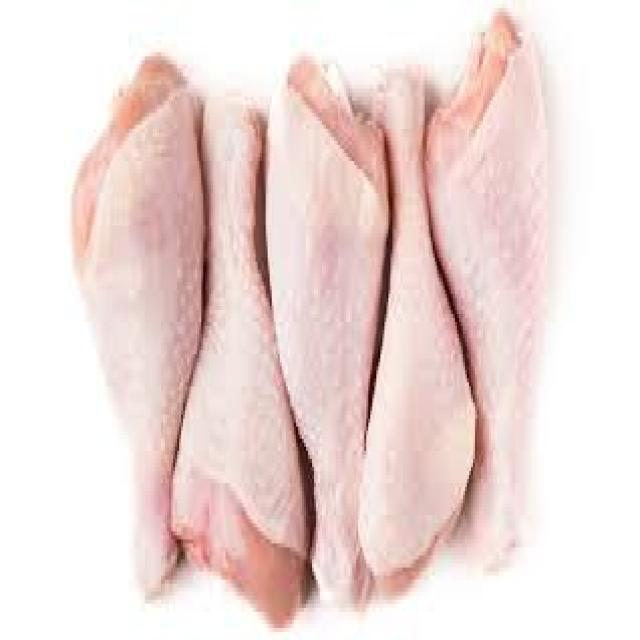leg: (58, 42, 214, 597), (179, 60, 320, 640), (426, 14, 562, 582), (257, 51, 388, 604), (360, 56, 458, 596)
